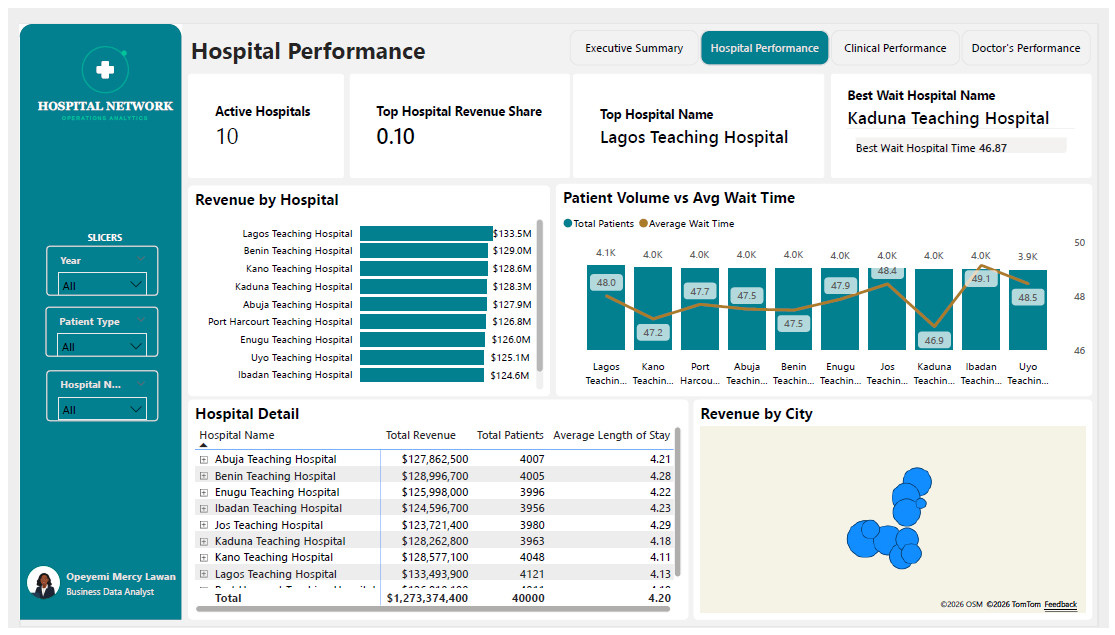

What the dashboard file says about the page in this screenshot:
{"tool":"powerbi","page":{"name":"Hospital Performance","canvas":[1280,720],"ordinal":1},"visuals":[{"type":"group","id":"g1","title":"Group 1","box":[14,17,1256,703],"z":0},{"type":"shape","box":[14,17,1256,703],"z":0,"group":"g1"},{"type":"shape","box":[15.1,17.8,188,702.2],"z":1000,"group":"g1"},{"type":"textbox","box":[1121,21,159,52],"z":1000,"group":"g2"},{"type":"slicer","fields":{"Values":["DimDate.Year"]},"box":[23.9,203.9,130.3,65.6],"z":1000},{"type":"slicer","fields":{"Values":["dimpatienttype.patienttype"]},"box":[23.9,278.4,130.3,63.8],"z":2000},{"type":"slicer","fields":{"Values":["dimhospital.hospitalname"]},"box":[23.9,350.2,130.3,62.1],"z":3000},{"type":"textbox","box":[52.3,172,95.8,33.7],"z":4000},{"type":"pageNavigator","box":[30.1,482.4,150.7,172.9],"z":5000},{"type":"image","box":[30.1,24.8,164.9,133.9],"z":6000},{"type":"clusteredBarChart","title":"Revenue by Hospital","fields":{"Category":["dimhospital.hospitalname"],"Y":["Core KPIs.Total Revenue"]},"box":[209,206,421,245],"z":7000},{"type":"lineClusteredColumnComboChart","title":"Patient Volume vs  Avg Wait Time","fields":{"Category":["dimhospital.hospitalname"],"Y":["Core KPIs.Total Patients"],"Y2":["Core KPIs.Average Wait Time"]},"box":[637,204,624,247],"z":8000},{"type":"pivotTable","title":"Hospital Detail","fields":{"Rows":["dimhospital.hospitalname","dimhospital.hospitaltype","dimhospital.city"],"Values":["Core KPIs.Total Revenue","Core KPIs.Total Patients","Core KPIs.Average Length of Stay"]},"box":[209,455,582,256],"z":9000},{"type":"azureMap","title":"Revenue by City","fields":{"Category":["dimhospital.city"],"Size":["Core KPIs.Total Revenue"]},"box":[797,455,464,256],"z":10000},{"type":"cardVisual","fields":{"Data":["Core KPIs.Active Hospitals"]},"box":[209.3,76.3,299.7,120.6],"z":11000},{"type":"cardVisual","fields":{"Data":["Core KPIs.Active Hospitals"]},"box":[523.2,76.3,367.1,120.6],"z":12000},{"type":"cardVisual","fields":{"Data":["Core KPIs.Active Hospitals"]},"box":[905,76,356,121],"z":13000},{"type":"textbox","box":[209.3,24.7,375.1,51.4],"z":13001,"group":"g1"},{"type":"group","id":"g2","title":"Group 2","box":[1121,21,159,52],"z":14000},{"type":"image","box":[1079,12,42,61],"z":14001}]}

Visuals, with their boxes in screenshot pixels (x1, y1, x2, y2), scaled from the page's 1280x720 canvas onto the 1115x635 screenshot:
"Group 1" group: [left=12, top=15, right=1106, bottom=634]
shape: [left=12, top=15, right=1106, bottom=634]
shape: [left=13, top=16, right=177, bottom=634]
textbox: [left=976, top=19, right=1114, bottom=64]
slicer - DimDate.Year: [left=21, top=180, right=134, bottom=238]
slicer - dimpatienttype.patienttype: [left=21, top=246, right=134, bottom=302]
slicer - dimhospital.hospitalname: [left=21, top=309, right=134, bottom=364]
textbox: [left=46, top=152, right=129, bottom=181]
pageNavigator: [left=26, top=425, right=157, bottom=578]
image: [left=26, top=22, right=170, bottom=140]
"Revenue by Hospital" clusteredBarChart: [left=182, top=182, right=549, bottom=398]
"Patient Volume vs  Avg Wait Time" lineClusteredColumnComboChart: [left=555, top=180, right=1098, bottom=398]
"Hospital Detail" pivotTable: [left=182, top=401, right=689, bottom=627]
"Revenue by City" azureMap: [left=694, top=401, right=1098, bottom=627]
cardVisual - Core KPIs.Active Hospitals: [left=182, top=67, right=443, bottom=174]
cardVisual - Core KPIs.Active Hospitals: [left=456, top=67, right=776, bottom=174]
cardVisual - Core KPIs.Active Hospitals: [left=788, top=67, right=1098, bottom=174]
textbox: [left=182, top=22, right=509, bottom=67]
"Group 2" group: [left=976, top=19, right=1114, bottom=64]
image: [left=940, top=11, right=976, bottom=64]
